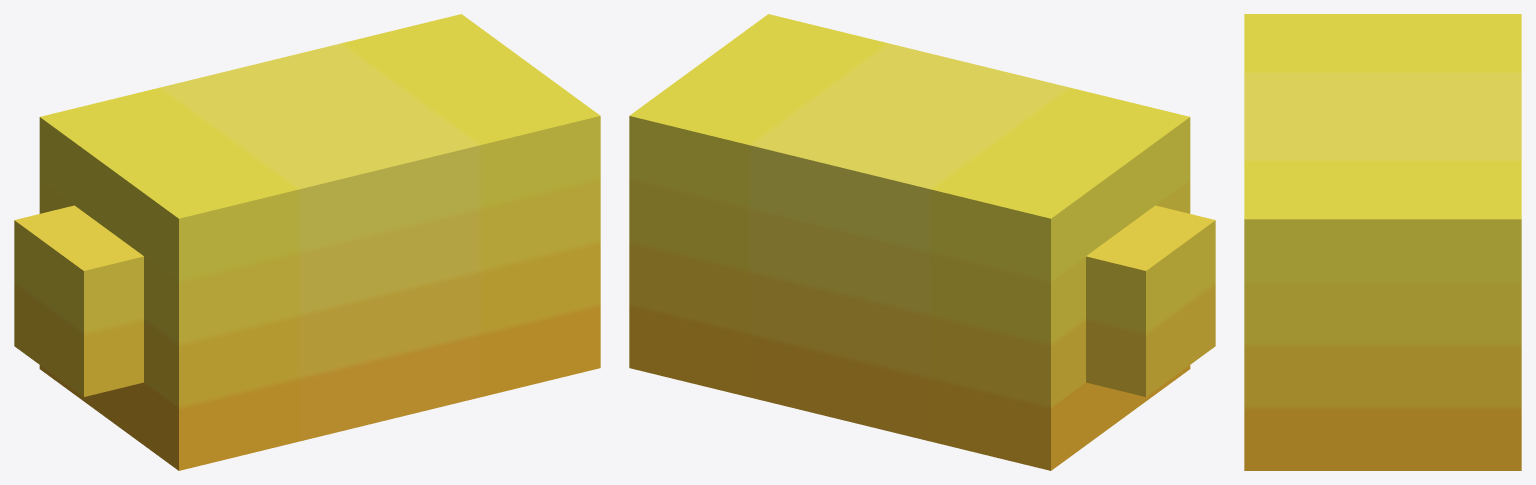
Rendered from Shoulder028.fbx.
3 views of the same model, side by side, from view 1: azimuth 30°, elevation 25°; view 2: azimuth 150°, elevation 25°; view 3: azimuth 270°, elevation 25° (orthographic).
Visible parts, largest first — view 1: Shoulder028; view 2: Shoulder028; view 3: Shoulder028.
Part boxes in pixels (<box>): Shoulder028: <box>14,14,600,470</box>; Shoulder028: <box>629,14,1215,470</box>; Shoulder028: <box>1244,14,1521,470</box>.
Size of the model in its own units: 8 by 4 by 4.
